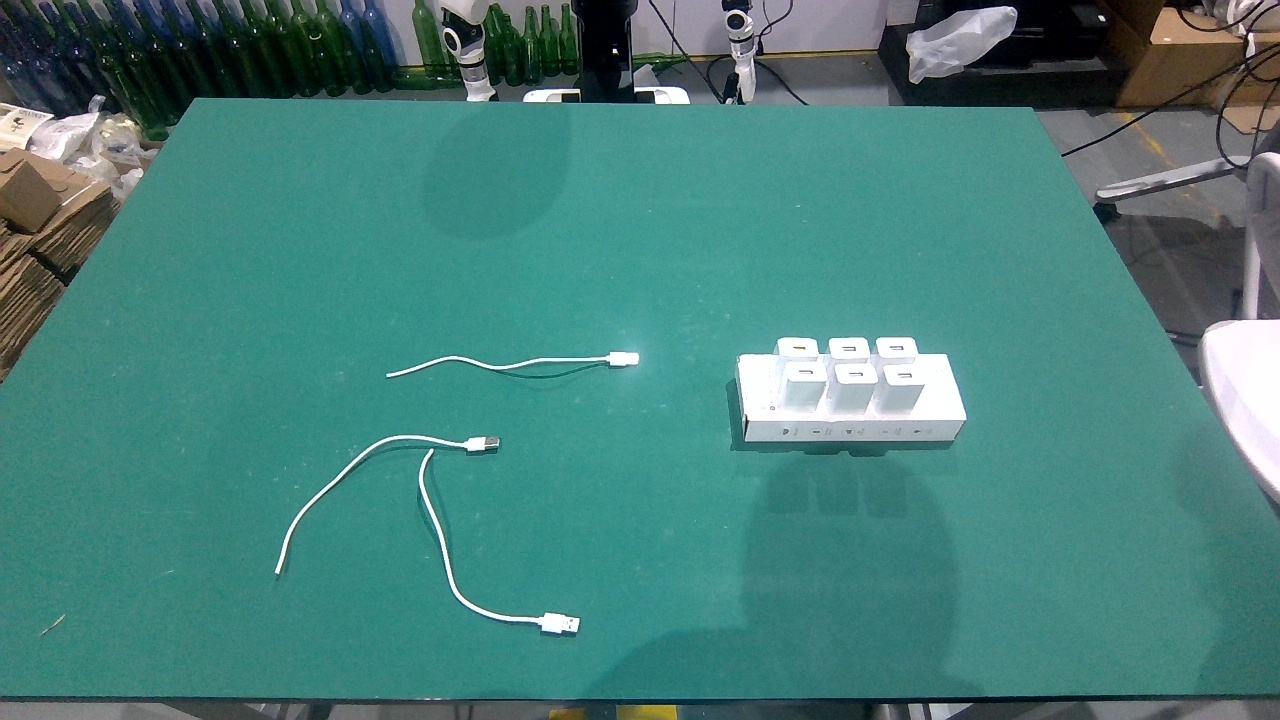usb_a_plug: (526, 611, 580, 635), (592, 352, 639, 366), (453, 437, 499, 451)
